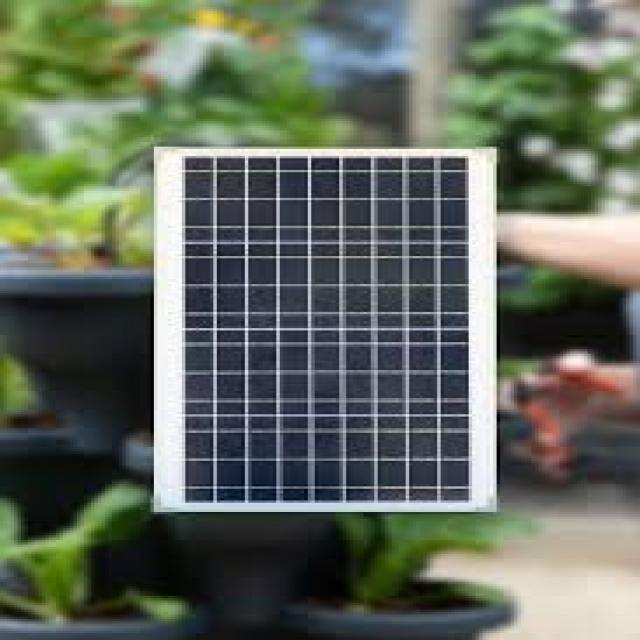no faulty: (175, 157, 480, 507)
